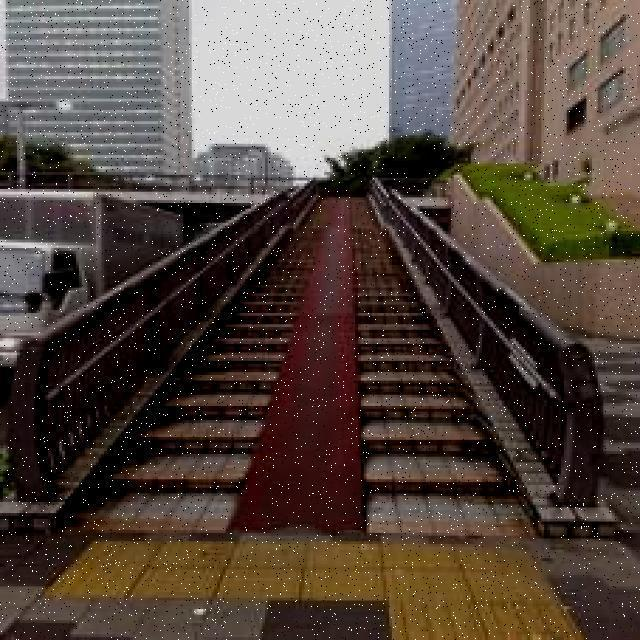Stairs: (12, 132, 615, 591)
